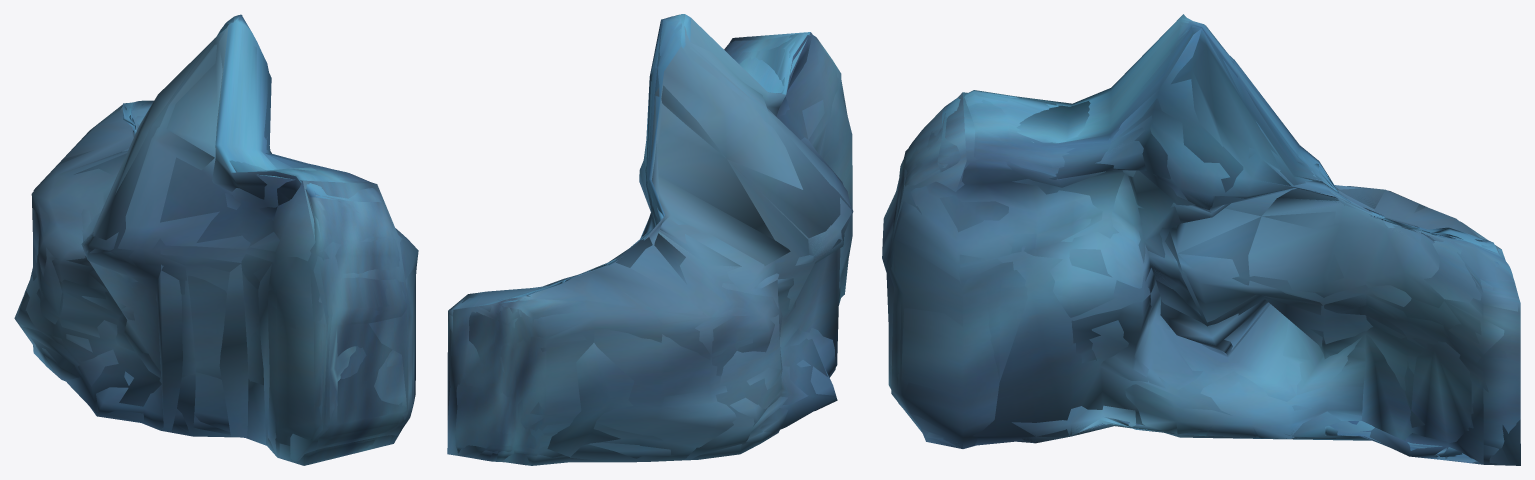
Rendered from new_glacer_2_LOD.fbx.
3 renders of one model, left to right at view 1: azimuth 30°, elevation 25°; view 2: azimuth 150°, elevation 25°; view 3: azimuth 270°, elevation 25°, orthographic. The views are drawn at different scales.
Parts seen in each view (by area): view 1: Cube, Cube.003, Cube.002, Cube.001; view 2: Cube, Cube.003, Cube.002, Cube.001; view 3: Cube, Cube.003, Cube.001, Cube.002.
Boxes of the visible parts, x1,y1,x2,y2 form: Cube: [17, 15, 418, 465]; Cube.003: [14, 14, 408, 461]; Cube.002: [18, 16, 418, 464]; Cube.001: [18, 15, 418, 465]; Cube: [447, 14, 851, 465]; Cube.003: [497, 14, 853, 465]; Cube.002: [447, 14, 852, 465]; Cube.001: [447, 14, 851, 464]; Cube: [882, 14, 1520, 465]; Cube.003: [886, 16, 1510, 464]; Cube.001: [882, 20, 1519, 461]; Cube.002: [882, 14, 1520, 465].
Size of the model in its own units: 575 by 828 by 1156.
